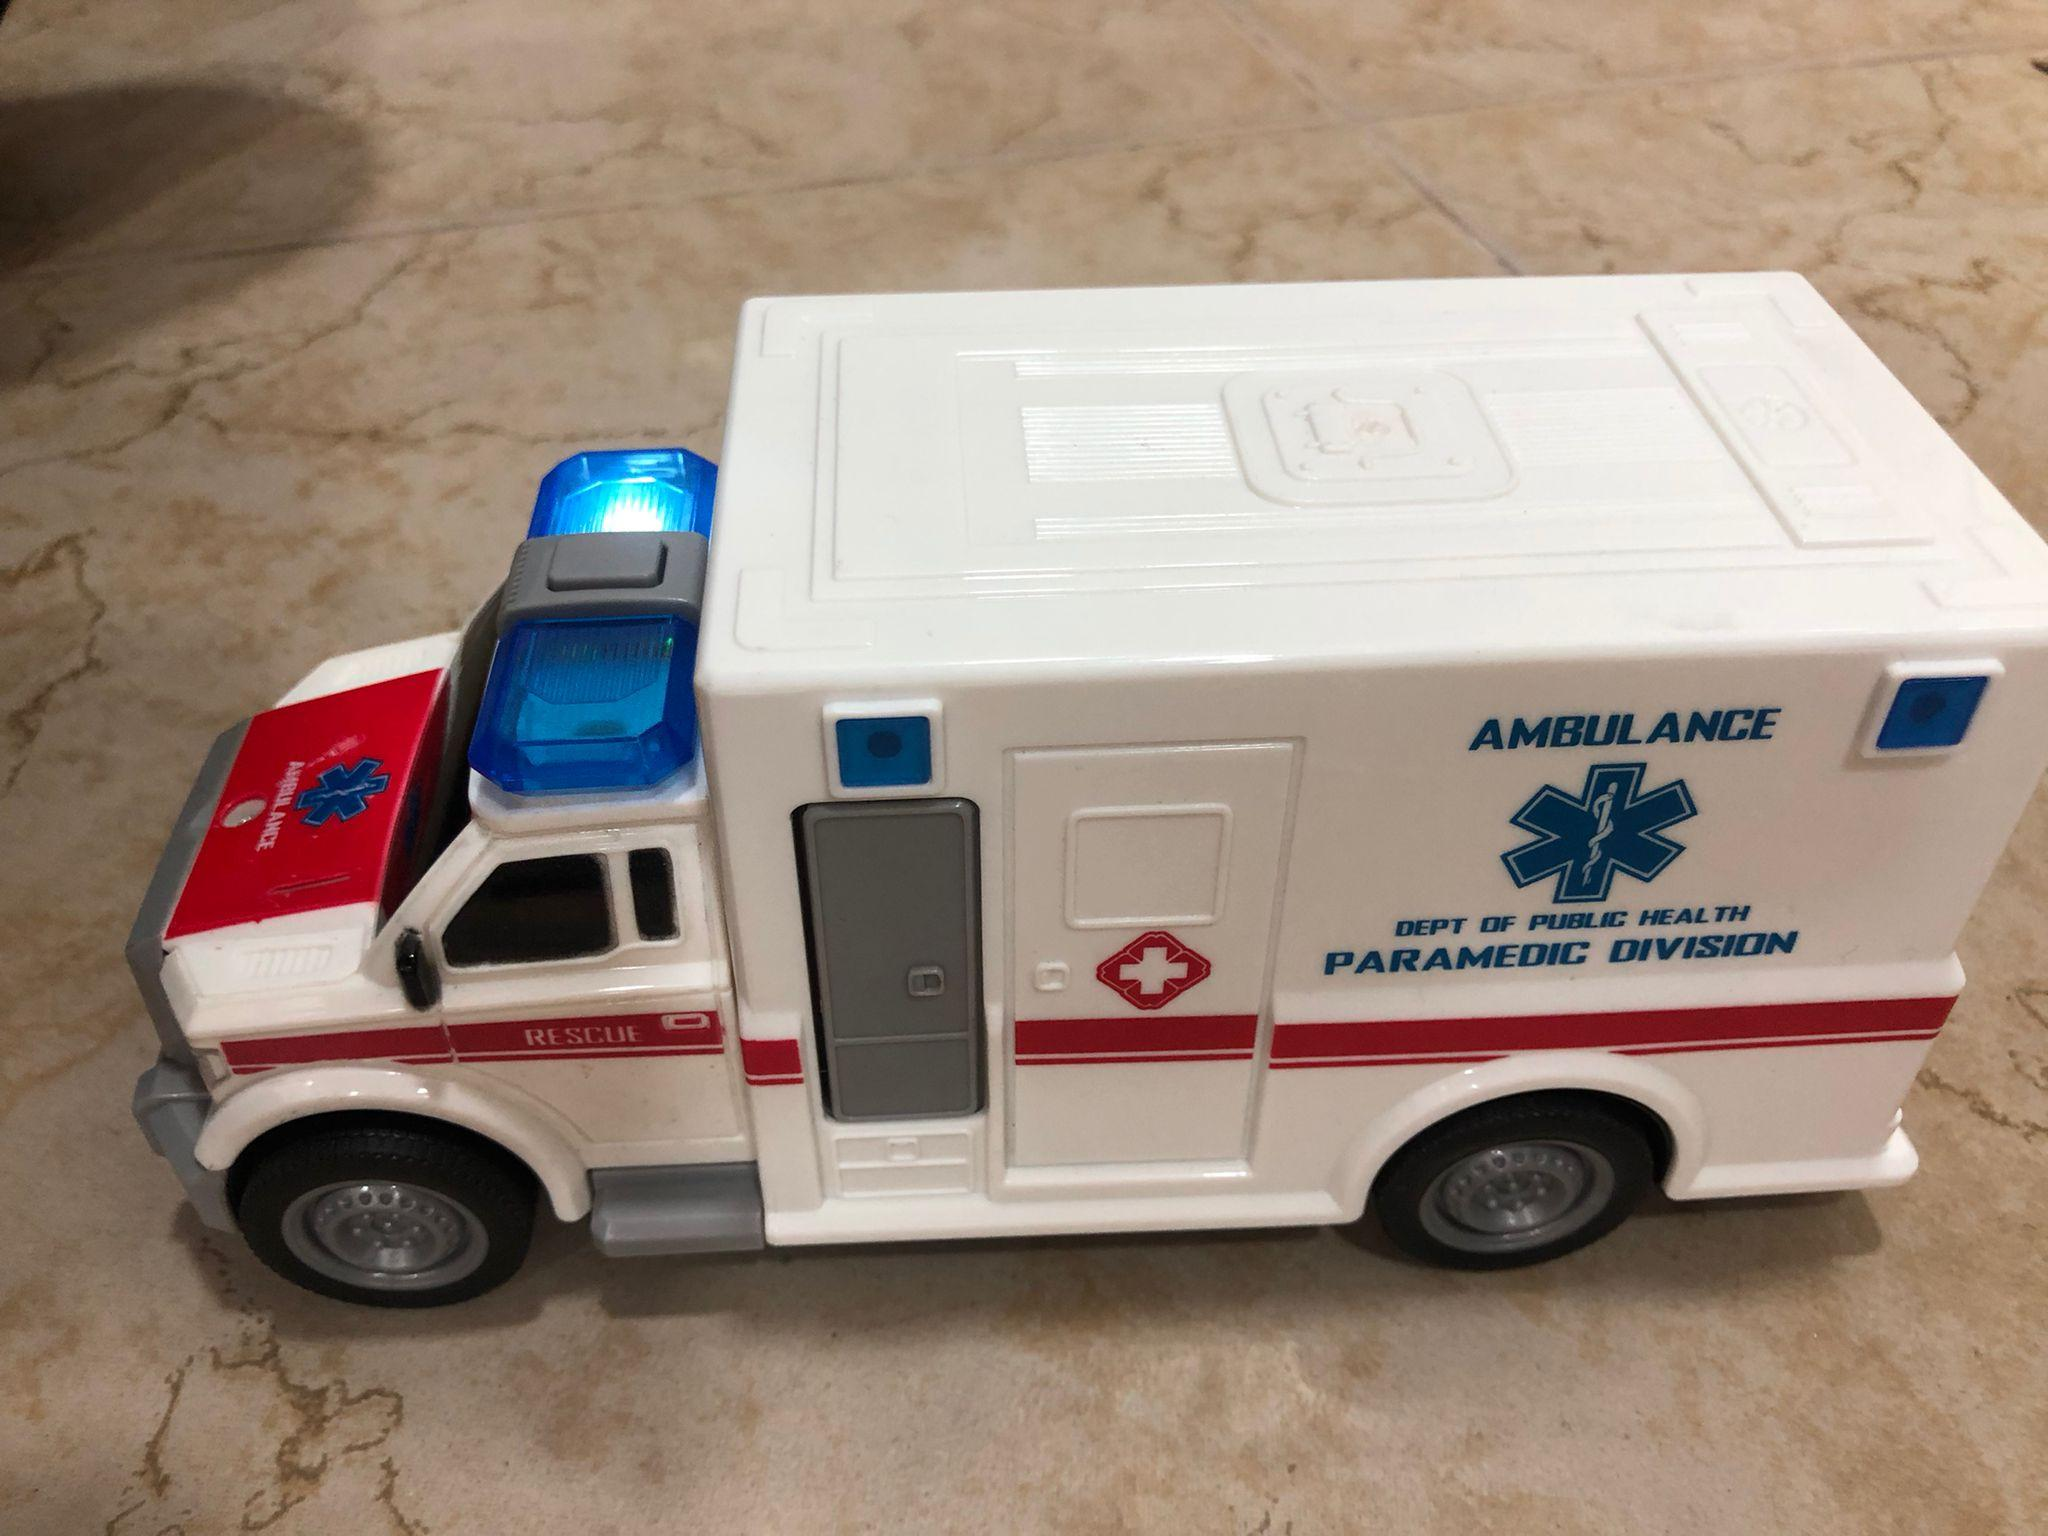ambulance_on: (121, 271, 2048, 1313)
